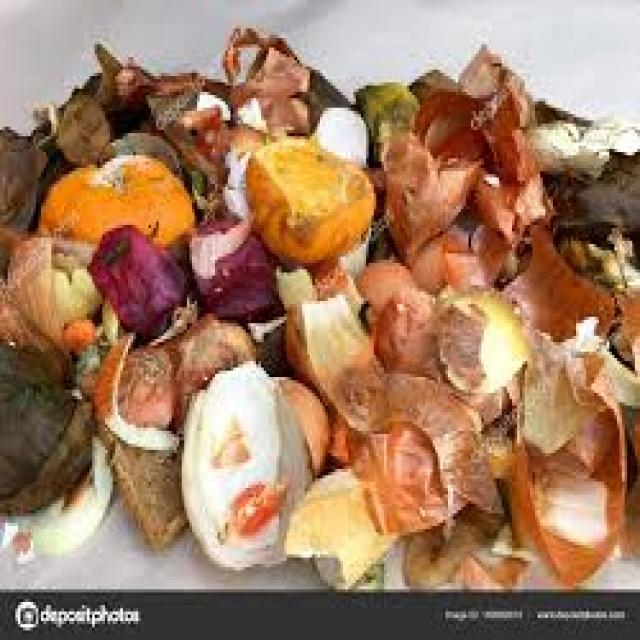organic waste: (0, 22, 637, 586), (172, 352, 318, 567), (510, 336, 624, 580), (340, 361, 510, 523), (410, 44, 545, 234), (276, 257, 374, 453), (0, 332, 92, 522), (240, 130, 368, 257), (279, 463, 410, 586), (36, 156, 197, 254), (528, 95, 638, 231), (23, 38, 138, 168), (105, 390, 200, 545), (0, 231, 108, 361), (500, 225, 614, 342), (374, 117, 474, 250), (113, 54, 266, 133), (84, 222, 187, 336), (87, 329, 177, 446), (169, 304, 253, 428), (220, 22, 310, 133), (184, 209, 279, 314), (433, 282, 540, 374), (397, 510, 530, 583), (348, 70, 453, 158), (34, 434, 108, 548), (404, 228, 504, 295), (366, 288, 438, 377), (112, 336, 176, 421), (550, 225, 638, 285), (0, 121, 46, 228), (51, 82, 110, 162), (310, 98, 371, 168), (568, 108, 638, 168), (353, 241, 412, 304), (108, 127, 182, 174), (300, 60, 350, 127), (522, 114, 576, 171), (612, 272, 637, 368), (56, 314, 102, 352), (0, 516, 33, 563), (338, 231, 366, 285), (185, 152, 208, 212)
